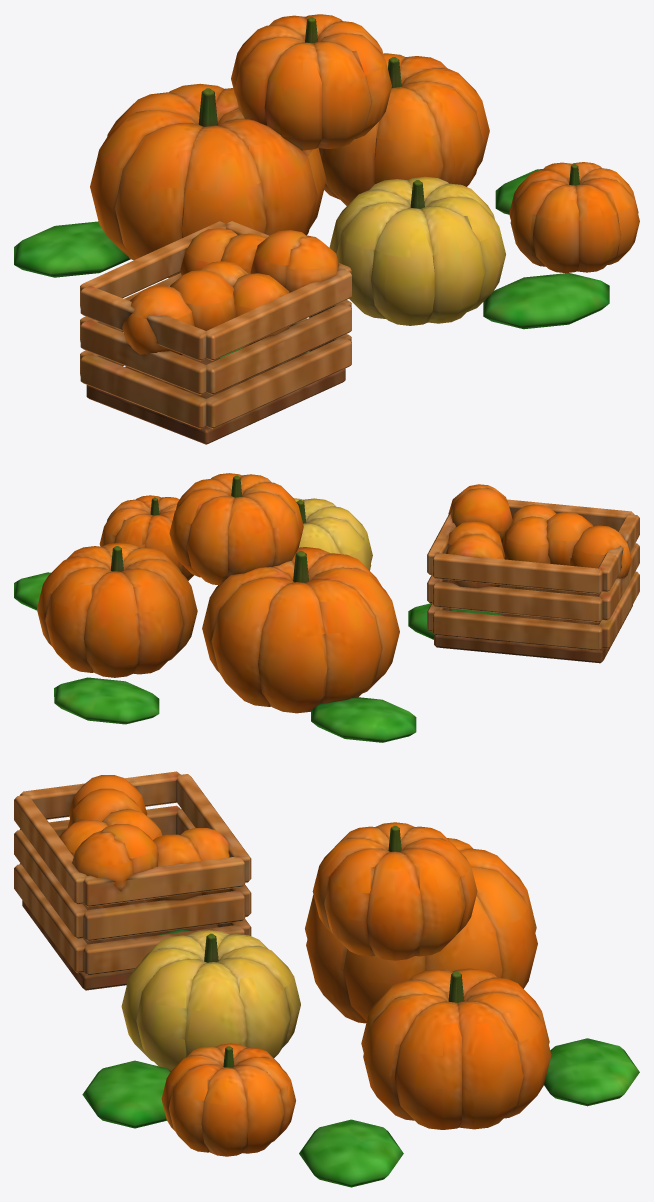
Rendered from pumpkin_pile.glb.
The picture shows the model from 3 angles, top to bottom: view 1: azimuth 30°, elevation 25°; view 2: azimuth 150°, elevation 25°; view 3: azimuth 270°, elevation 25°; orthographic projection. The views are drawn at different scales.
Parts seen in each view (by area): view 1: pumpkin_pile; view 2: pumpkin_pile; view 3: pumpkin_pile.
Part boxes in pixels (x1=…): pumpkin_pile: x1=14, y1=14, x2=639, y2=444; pumpkin_pile: x1=14, y1=473, x2=639, y2=742; pumpkin_pile: x1=14, y1=771, x2=639, y2=1187.
Bounding box in the file's own units: 0.8354 × 0.2905 × 0.7153.
Materials: 1 (1 with a texture image).
